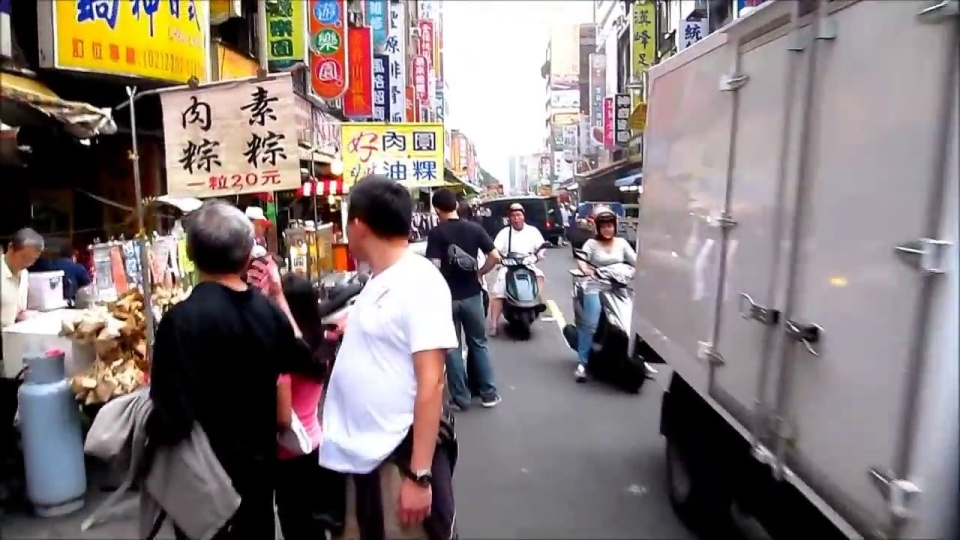person_head: (183, 194, 255, 279), (344, 174, 415, 260), (272, 267, 328, 349), (3, 222, 45, 276), (240, 201, 269, 249), (426, 185, 461, 219), (589, 207, 620, 243), (500, 202, 528, 228)
person_vbox: (135, 186, 309, 540), (314, 172, 468, 540), (259, 255, 351, 540), (422, 179, 504, 413), (569, 198, 656, 391), (491, 196, 550, 338), (0, 205, 57, 335)
